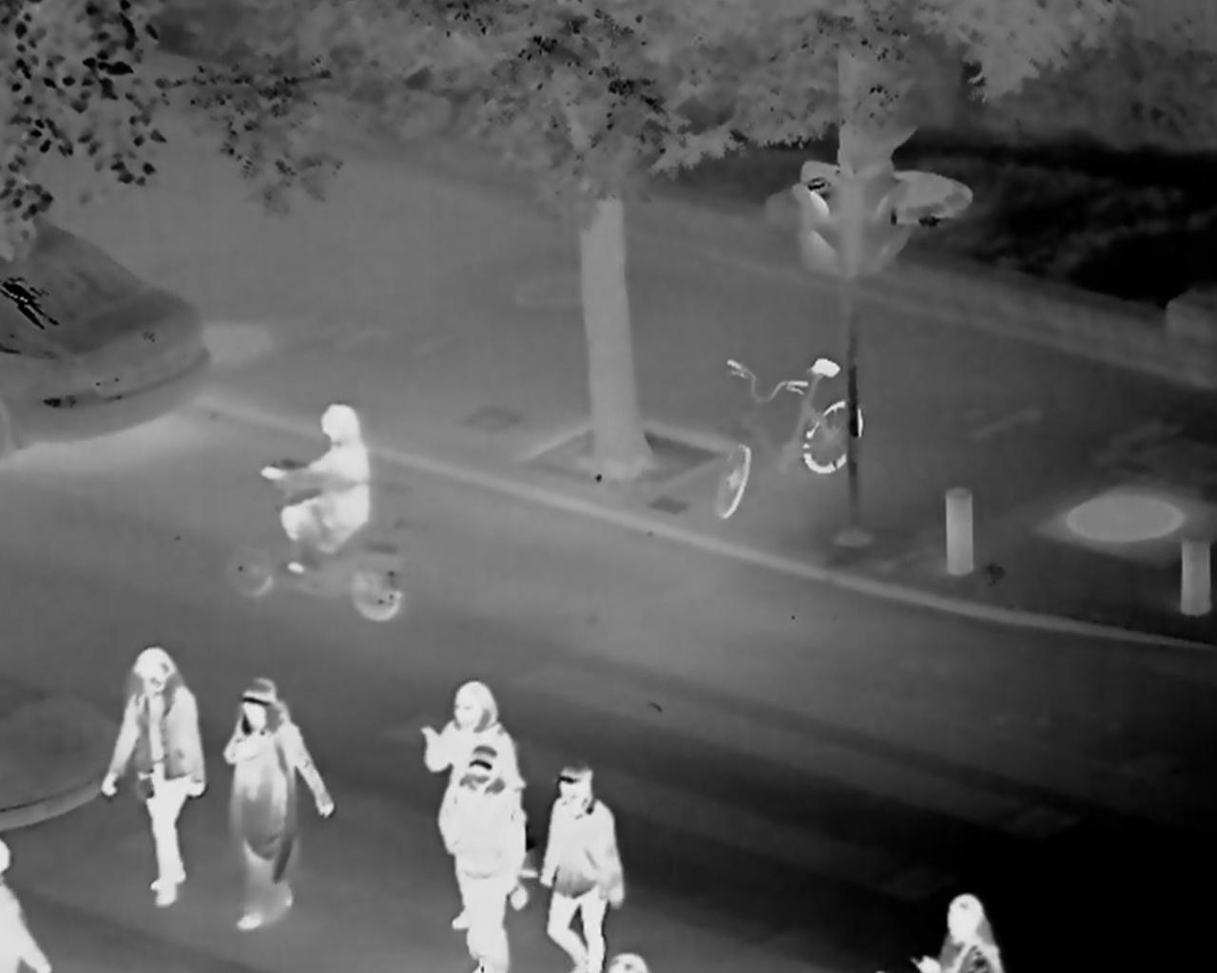person: (96, 647, 210, 909), (216, 676, 335, 925), (418, 678, 534, 933), (437, 748, 526, 973), (540, 761, 628, 973), (261, 403, 368, 575), (911, 891, 1003, 973)
